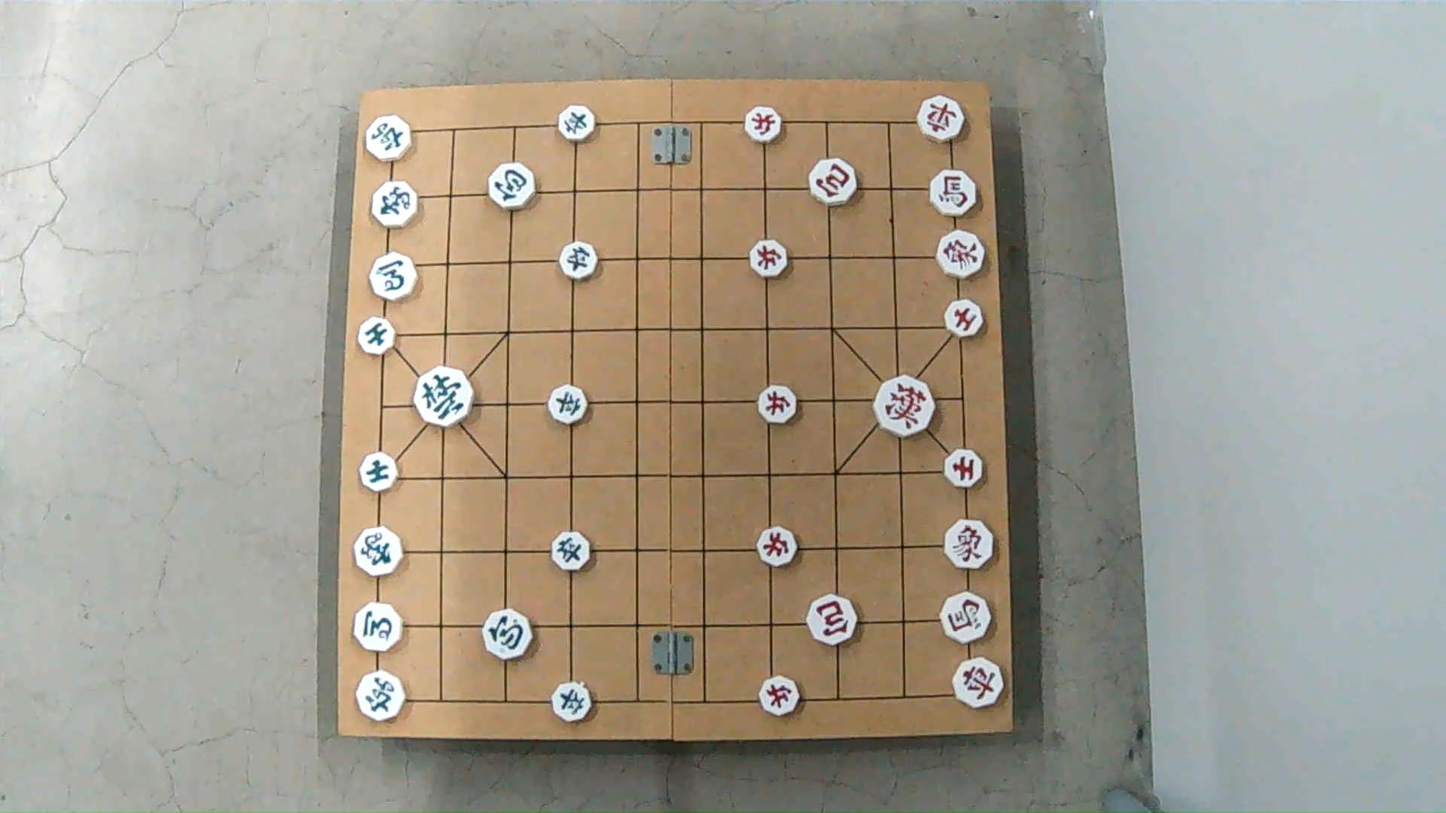cha_green: (357, 671, 410, 720), (365, 117, 414, 160)
cha_red: (952, 659, 1007, 707), (915, 99, 966, 141)
jol_green: (551, 686, 596, 721), (558, 243, 599, 281), (548, 534, 593, 568), (548, 388, 590, 424), (555, 107, 596, 139)
jol_red: (760, 678, 804, 714), (755, 529, 798, 564), (755, 389, 799, 423), (742, 107, 786, 140), (747, 242, 789, 276)
ma_green: (354, 604, 407, 651), (368, 254, 419, 297)
ma_red: (944, 590, 993, 641), (926, 168, 981, 213)
po_green: (484, 613, 536, 659), (487, 163, 540, 206)
po_red: (807, 598, 860, 646), (809, 163, 860, 205)
sa_green: (361, 454, 402, 489), (358, 318, 399, 352)
sa_red: (942, 299, 986, 337), (944, 450, 987, 486)
sang_green: (353, 522, 404, 577), (371, 178, 423, 228)
sang_red: (933, 229, 987, 278), (945, 523, 999, 568)
wang_green: (414, 368, 475, 428)
wang_red: (873, 376, 939, 434)
